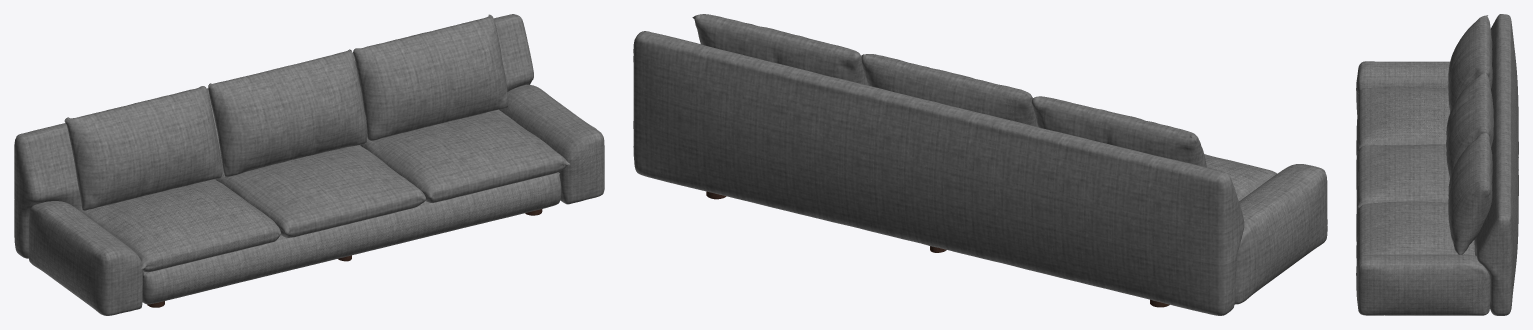
Rendered from grey_sofa.glb.
3 renders of one model, left to right at view 1: azimuth 30°, elevation 25°; view 2: azimuth 150°, elevation 25°; view 3: azimuth 270°, elevation 25°, orthographic. The views are drawn at different scales.
Parts seen in each view (by area): view 1: geo1; view 2: geo1; view 3: geo1.
Part boxes in pixels (x1=…): geo1: x1=14, y1=14, x2=604, y2=315; geo1: x1=633, y1=14, x2=1327, y2=315; geo1: x1=1356, y1=14, x2=1518, y2=315.
Bounding box in the file's own units: 2 × 0.5383 × 0.6568.
2 materials, 2 textured.
